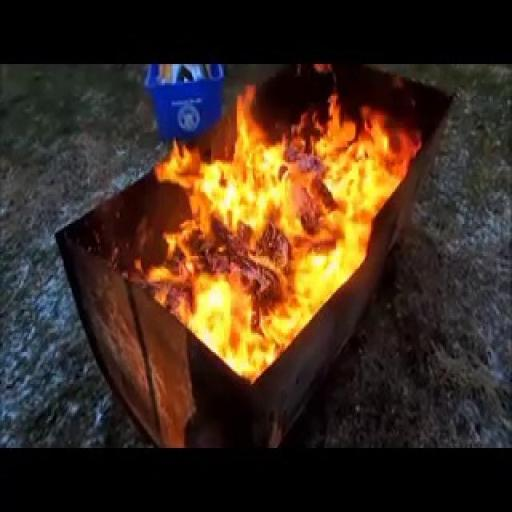smoke: (149, 66, 414, 388)
